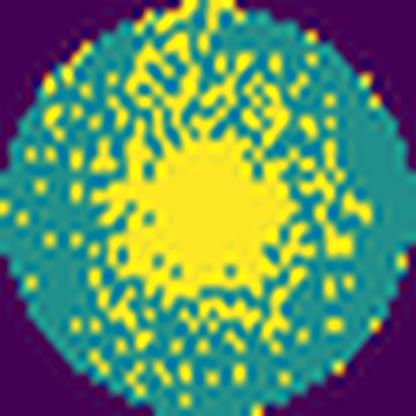Center: (110, 133, 297, 301)
